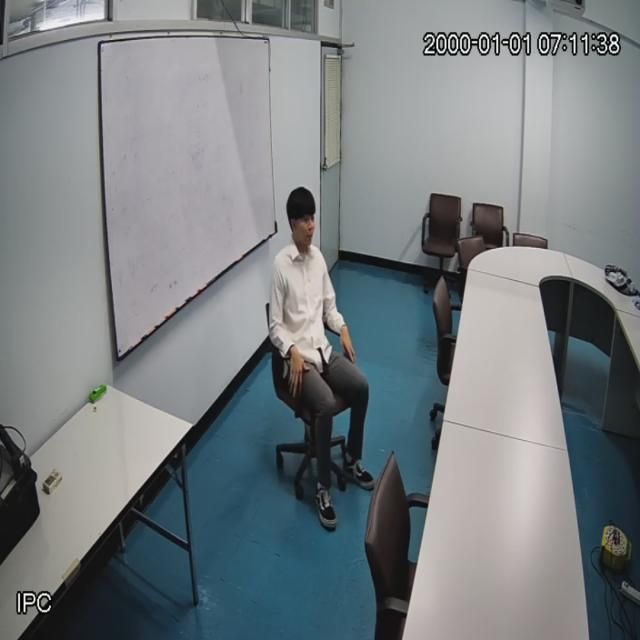normal: (272, 183, 376, 526)
